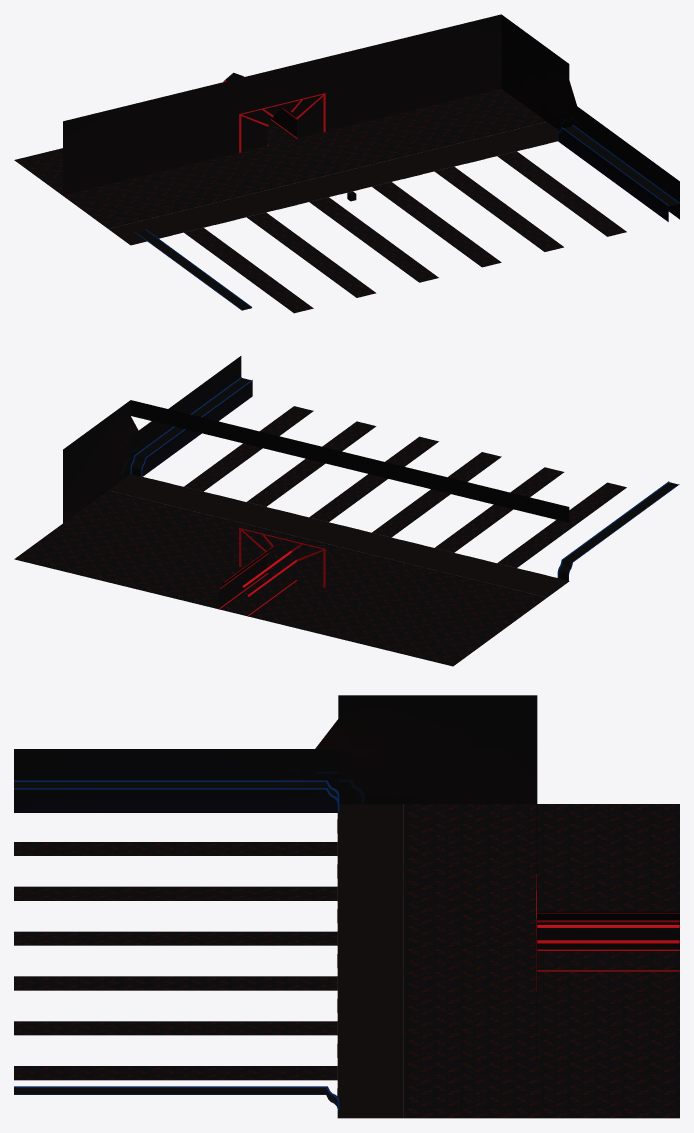
Rendered from Room.gltf.
3 renders of one model, top to bottom at view 1: azimuth 30°, elevation 25°; view 2: azimuth 150°, elevation 25°; view 3: azimuth 270°, elevation 25°, orthographic. The views are drawn at different scales.
Visible parts, largest first — view 1: BowlingRoomWalls, CarpetFloor, WoodFloor, BowlingRoomHump.001, CarpettingSet.002, CarpettingSet.001, CarpettingSet.003, CarpettingSet.004, CarpettingSet, CarpettingSet.005, Cube.003; view 2: CarpetFloor, BowlingRoomWalls, WoodFloor, BowlingRoomHump.001, CarpettingSet.005, CarpettingSet.001, CarpettingSet.003, CarpettingSet.004, CarpettingSet.002, CarpettingSet, Cube.003; view 3: CarpetFloor, BowlingRoomWalls, WoodFloor, BowlingRoomHump.001, CarpettingSet, CarpettingSet.001, CarpettingSet.002, CarpettingSet.003, CarpettingSet.004, CarpettingSet.005, Cube.003.
Part boxes in pixels (left/top/right/bottom): BowlingRoomWalls: left=63, top=14, right=679, bottom=219; CarpetFloor: left=14, top=88, right=546, bottom=228; WoodFloor: left=108, top=122, right=559, bottom=245; BowlingRoomHump.001: left=134, top=125, right=679, bottom=310; CarpettingSet.002: left=497, top=151, right=626, bottom=236; CarpettingSet.001: left=434, top=166, right=563, bottom=251; CarpettingSet.003: left=309, top=197, right=438, bottom=282; CarpettingSet.004: left=247, top=212, right=376, bottom=297; CarpettingSet: left=372, top=182, right=501, bottom=267; CarpettingSet.005: left=184, top=228, right=313, bottom=313; Cube.003: left=223, top=76, right=325, bottom=152; CarpetFloor: left=14, top=490, right=546, bottom=666; BowlingRoomWalls: left=63, top=356, right=569, bottom=608; WoodFloor: left=108, top=474, right=569, bottom=597; BowlingRoomHump.001: left=130, top=377, right=679, bottom=581; CarpettingSet.005: left=497, top=482, right=626, bottom=567; CarpettingSet.001: left=247, top=421, right=376, bottom=506; CarpettingSet.003: left=372, top=452, right=501, bottom=537; CarpettingSet.004: left=435, top=467, right=564, bottom=552; CarpettingSet.002: left=184, top=406, right=313, bottom=491; CarpettingSet: left=309, top=436, right=438, bottom=521; Cube.003: left=219, top=528, right=325, bottom=616; CarpetFloor: left=404, top=804, right=679, bottom=1118; BowlingRoomWalls: left=14, top=695, right=679, bottom=1060; WoodFloor: left=337, top=804, right=403, bottom=1118; BowlingRoomHump.001: left=14, top=780, right=339, bottom=1110; CarpettingSet: left=14, top=976, right=337, bottom=990; CarpettingSet.001: left=14, top=1021, right=337, bottom=1035; CarpettingSet.002: left=14, top=1066, right=337, bottom=1080; CarpettingSet.003: left=14, top=931, right=337, bottom=945; CarpettingSet.004: left=14, top=886, right=337, bottom=900; CarpettingSet.005: left=14, top=842, right=337, bottom=855; Cube.003: left=536, top=874, right=679, bottom=991.
Size of the model in its own units: 55.14 by 11.29 by 49.39.
Materials: 10 (10 with a texture image).
